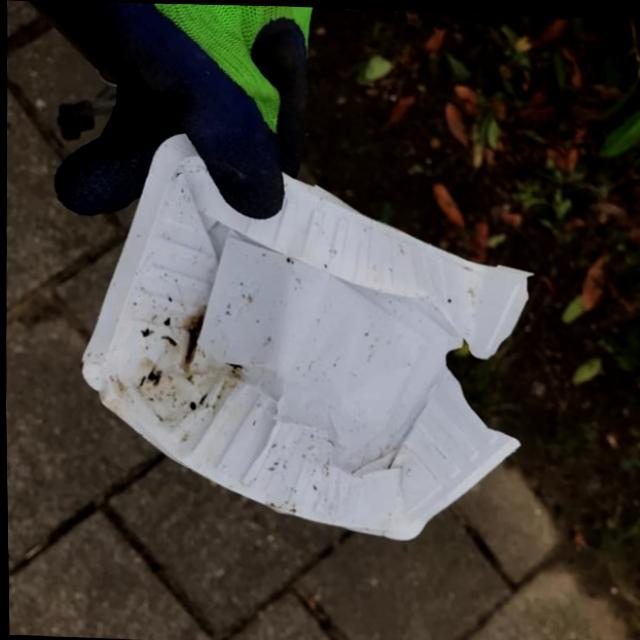Plastic: (69, 124, 544, 546)
